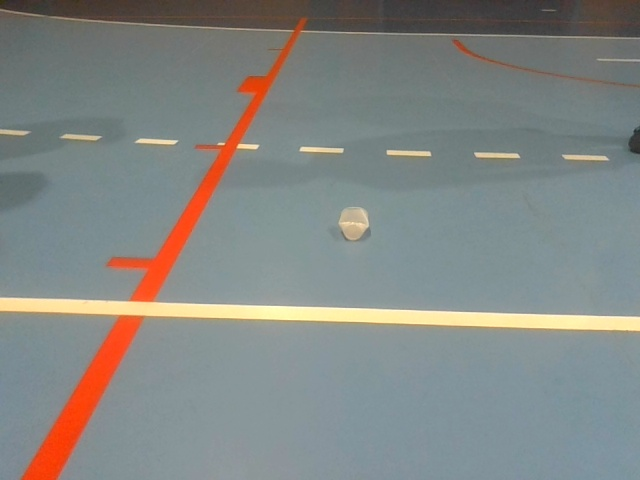plasticcup: (339, 206, 371, 240)
